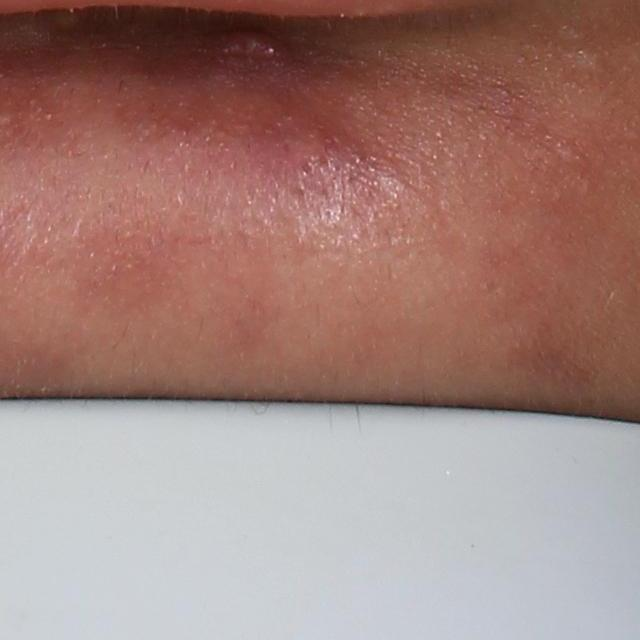papule: (199, 23, 307, 76)
